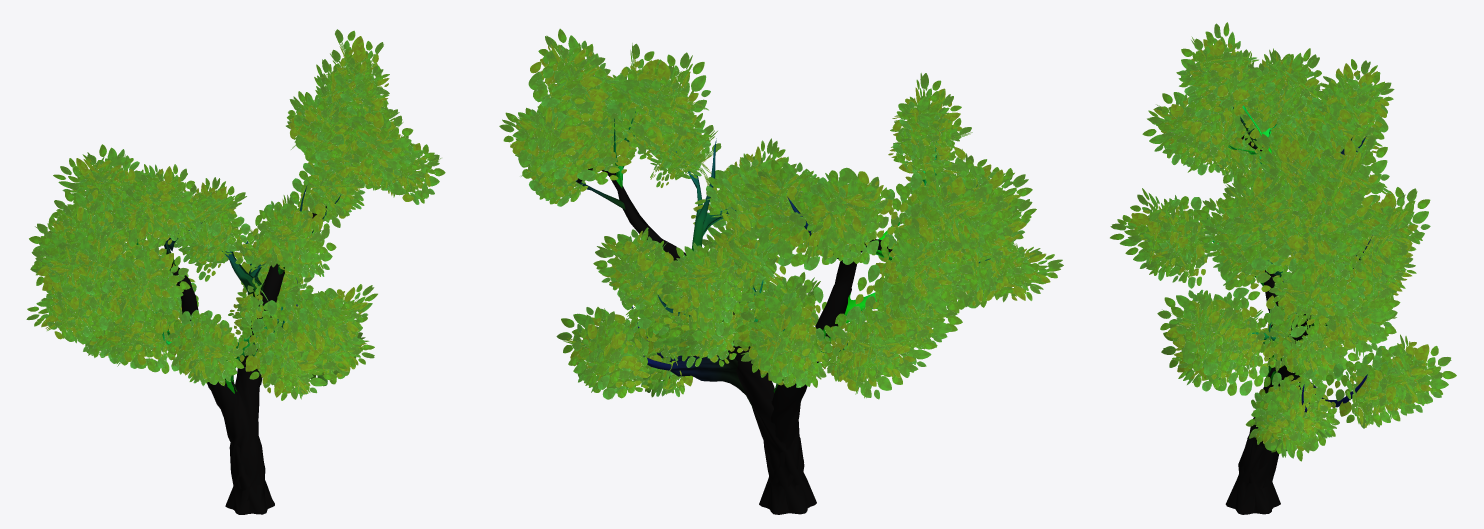
File: Tree_02.fbx
The picture shows the model from 3 angles, left to right: view 1: azimuth 30°, elevation 25°; view 2: azimuth 150°, elevation 25°; view 3: azimuth 270°, elevation 25°; orthographic projection. The views are drawn at different scales.
Parts seen in each view (by area): view 1: tree.001, tree; view 2: tree.001, tree; view 3: tree.001, tree.
Part boxes in pixels (box(x1,y1,x2,y2)): tree.001: box(26, 29, 445, 400); tree: box(101, 85, 356, 514); tree.001: box(499, 28, 1063, 399); tree: box(576, 111, 990, 514); tree.001: box(1110, 22, 1456, 461); tree: box(1207, 83, 1372, 514).
Bounding box in the file's own units: 1742 × 1516 × 1105.
